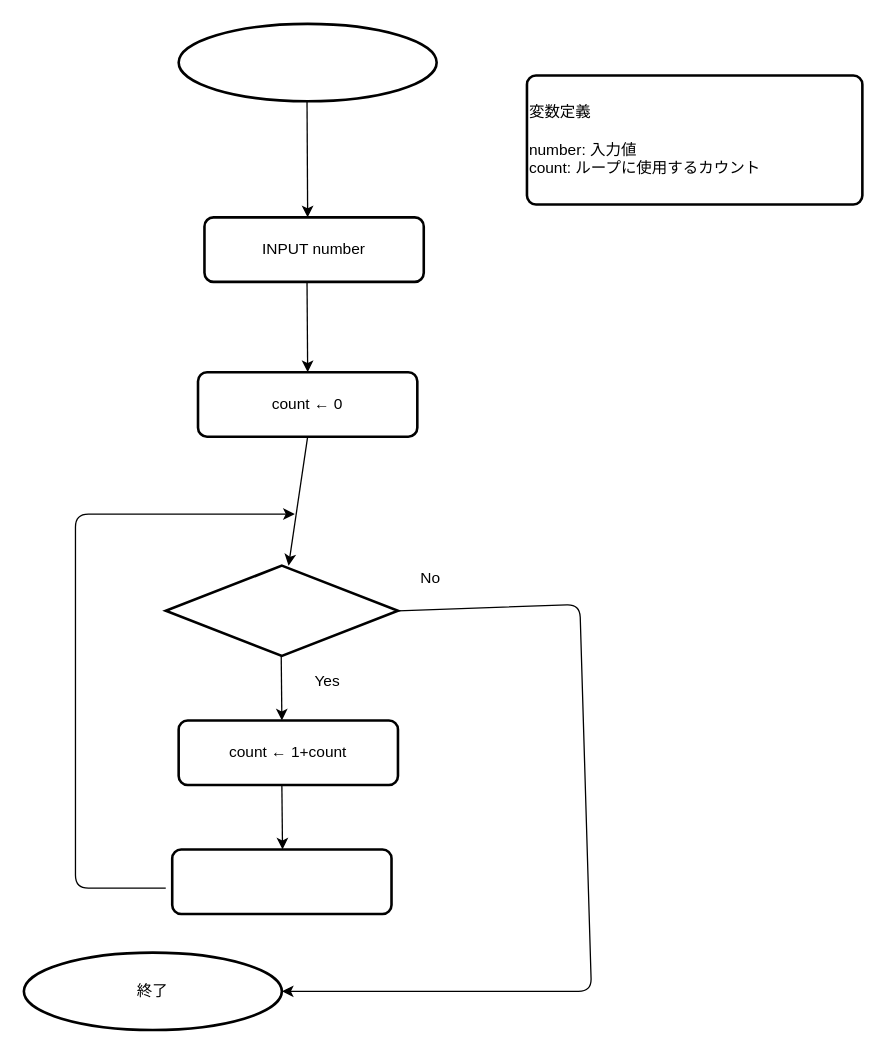
Image size: 885x1053. Some labels were removed from this diagram. The shapes that lost their labels are listed below. From the top down, each one's centre as x and y in pixels, then its label:
At (x=307, y=62): "開始".
At (x=281, y=610): "count < 5".
At (x=281, y=881): "PRINT number".
